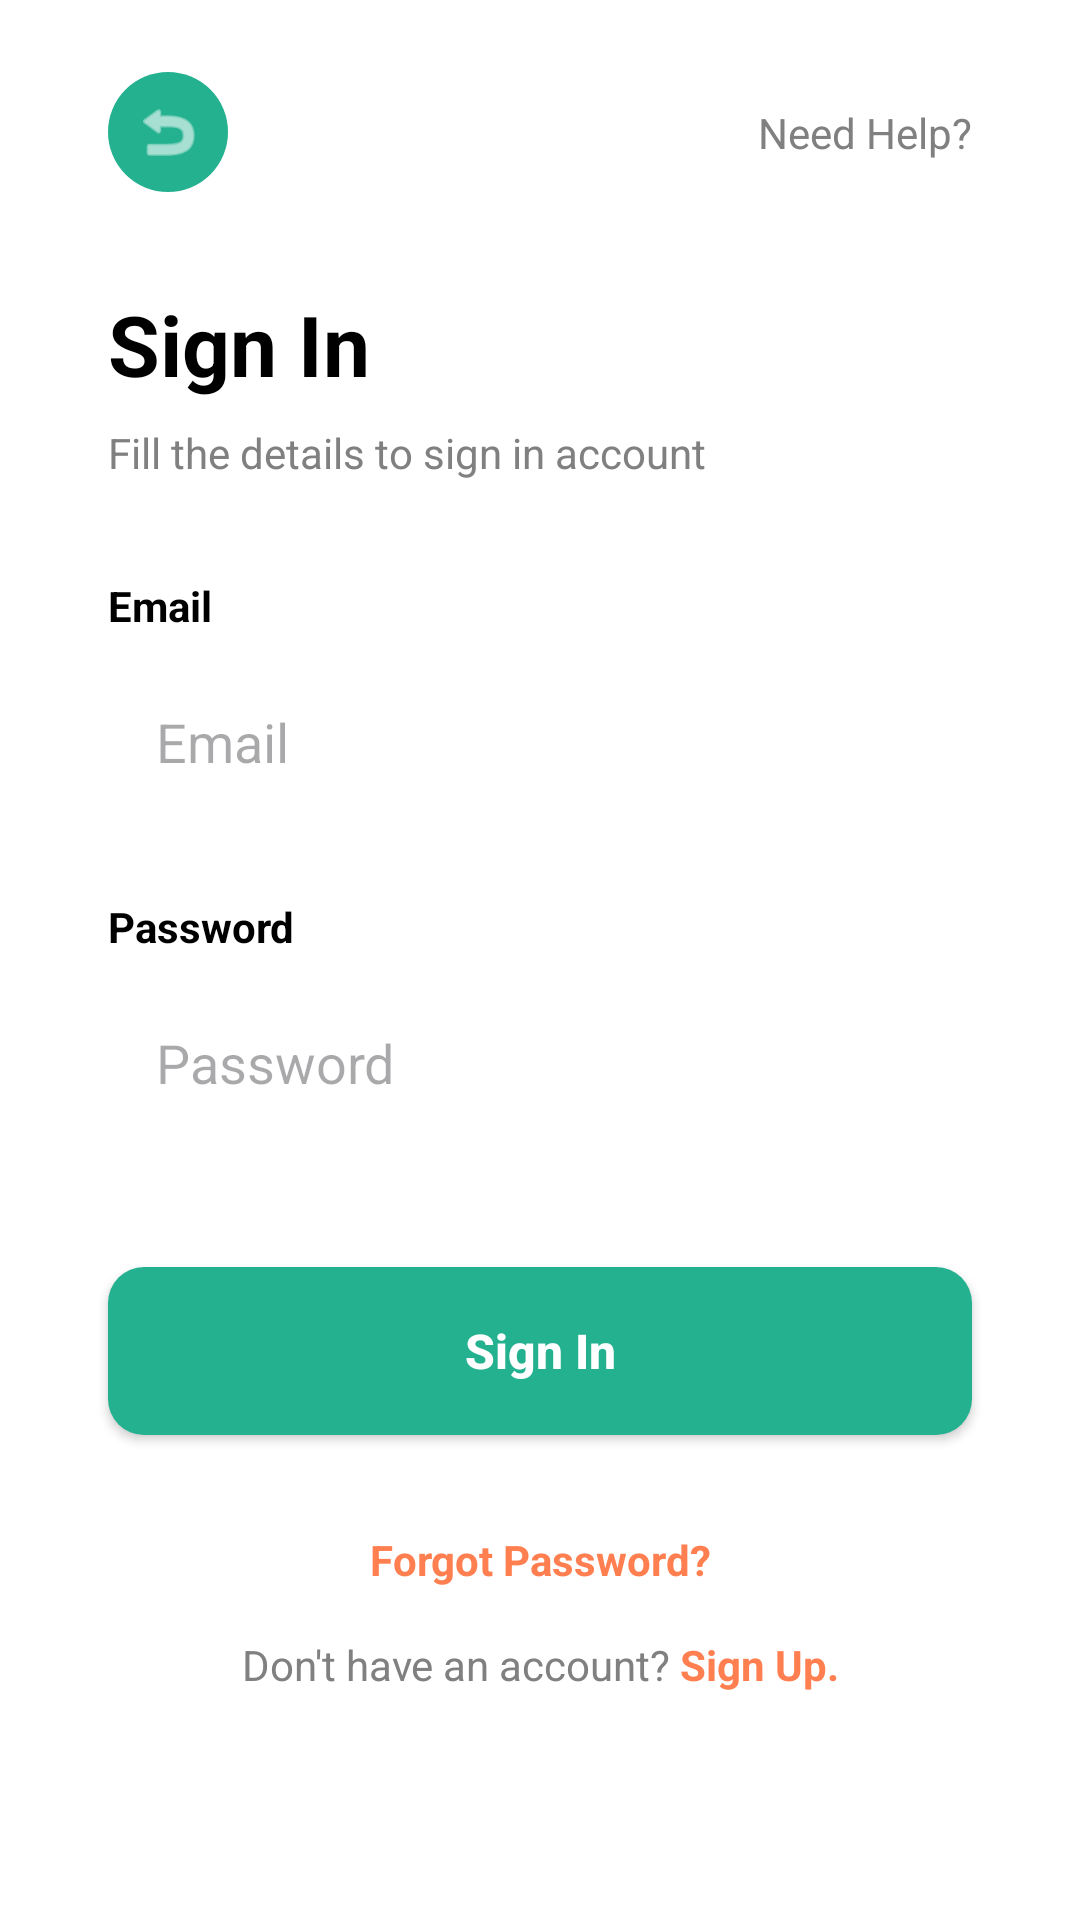

Icon click points for this 1080 x 1920 phone screenshot, format [x,y]:
revert: [168,132]
